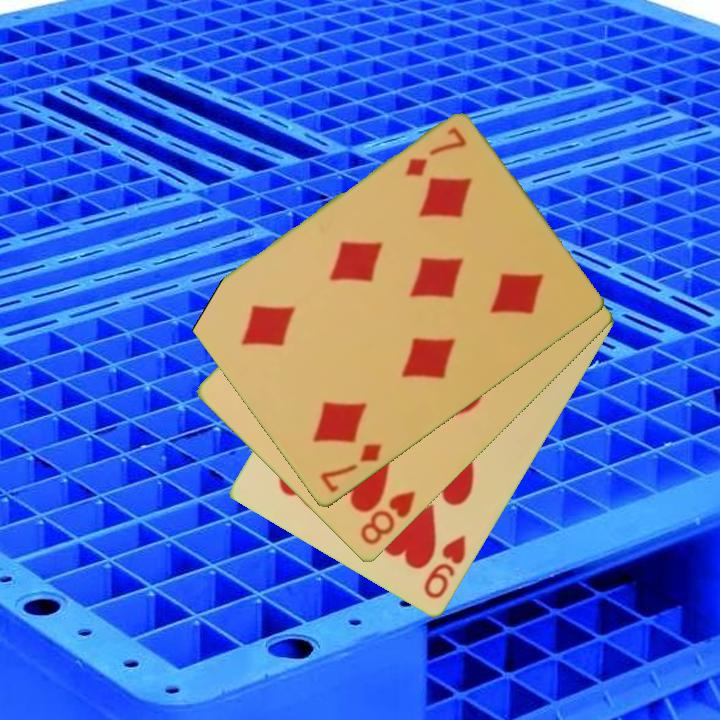7d: (401, 124, 469, 181), (317, 440, 385, 496)
8h: (357, 487, 419, 549)
9h: (420, 532, 469, 603)
